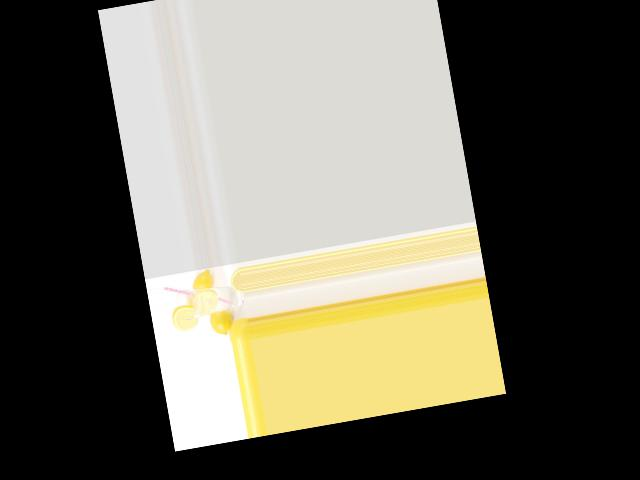lemon: (189, 269, 217, 296)
